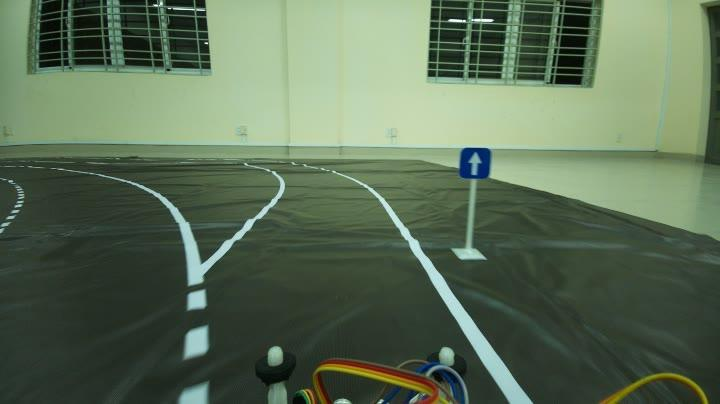onewayroad: (456, 144, 494, 182)
